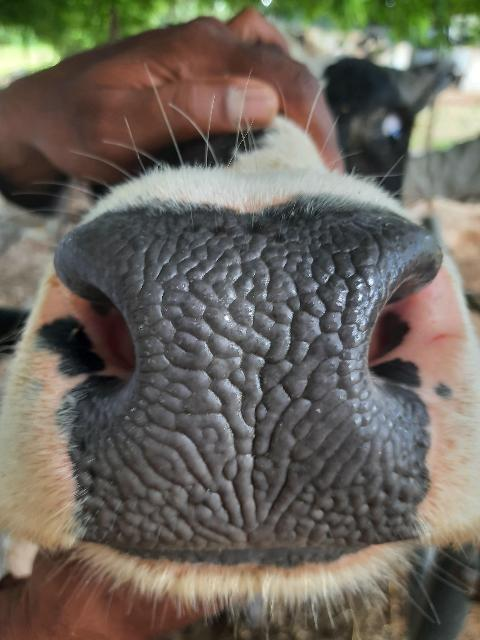Muzzle: (117, 213, 387, 542)
